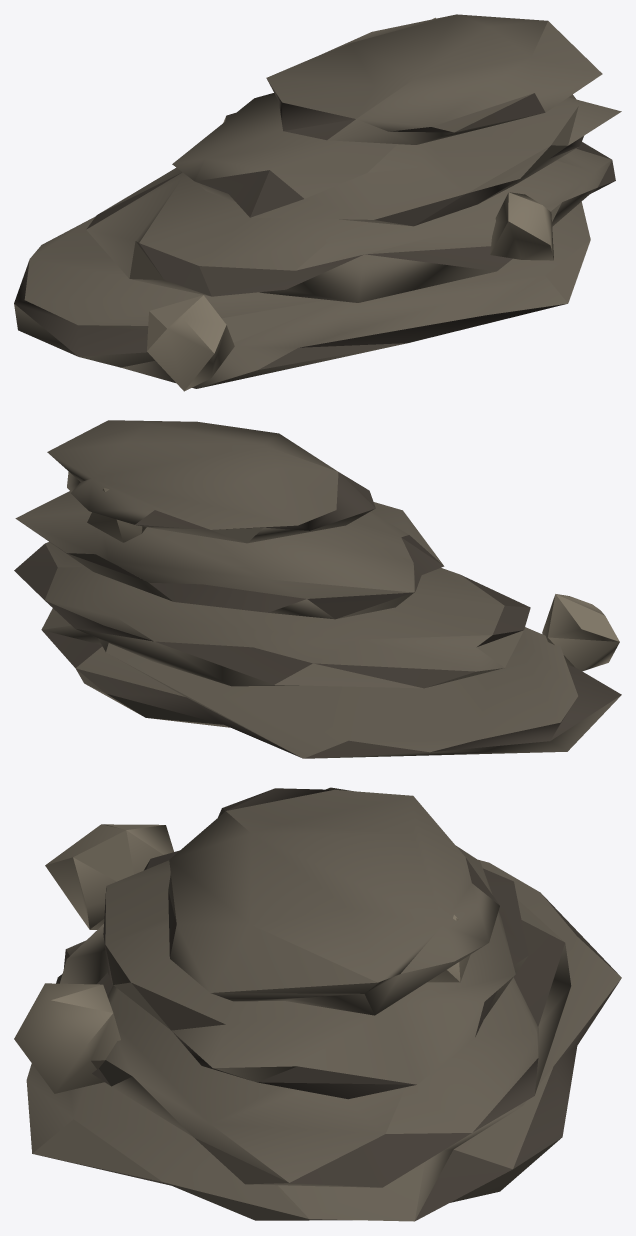
Rendered from stepped_fracture_shelf_lod2.glb.
The picture shows the model from 3 angles, top to bottom: view 1: azimuth 30°, elevation 25°; view 2: azimuth 150°, elevation 25°; view 3: azimuth 270°, elevation 25°; orthographic projection. The views are drawn at different scales.
Visible parts, largest first — view 1: LOD2_Stone, LOD2_Stone_strata, LOD2_Stone_cut; view 2: LOD2_Stone, LOD2_Stone_strata, LOD2_Stone_cut; view 3: LOD2_Stone, LOD2_Stone_strata, LOD2_Stone_cut.
Part boxes in pixels (left/top/right/bottom): LOD2_Stone: left=14, top=14, right=621, bottom=388; LOD2_Stone_strata: left=14, top=80, right=615, bottom=369; LOD2_Stone_cut: left=147, top=17, right=553, bottom=391; LOD2_Stone: left=15, top=420, right=621, bottom=758; LOD2_Stone_strata: left=14, top=472, right=621, bottom=758; LOD2_Stone_cut: left=87, top=488, right=619, bottom=671; LOD2_Stone: left=26, top=787, right=621, bottom=1221; LOD2_Stone_strata: left=42, top=788, right=620, bottom=1220; LOD2_Stone_cut: left=14, top=824, right=470, bottom=1093.
Bounding box in the file's own units: 3.7 × 1.37 × 2.42.
